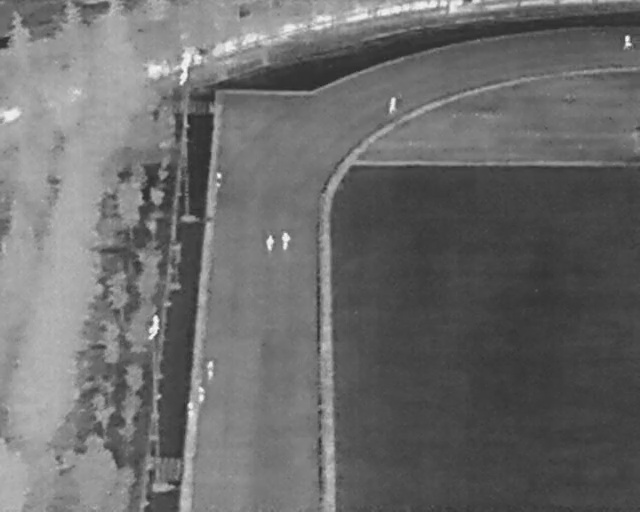Person: (280, 231, 291, 253), (388, 96, 397, 115), (265, 234, 274, 252), (207, 361, 215, 380), (198, 385, 206, 404), (187, 401, 195, 420), (624, 34, 632, 51), (216, 172, 223, 188)
